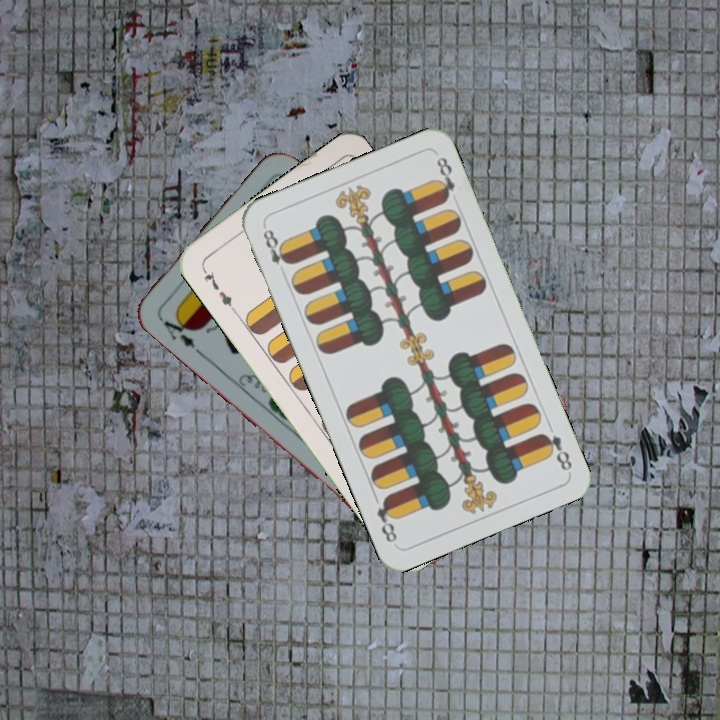E7: (198, 264, 239, 315)
E8: (536, 429, 575, 474), (258, 222, 294, 268)
EA: (156, 310, 198, 352)
